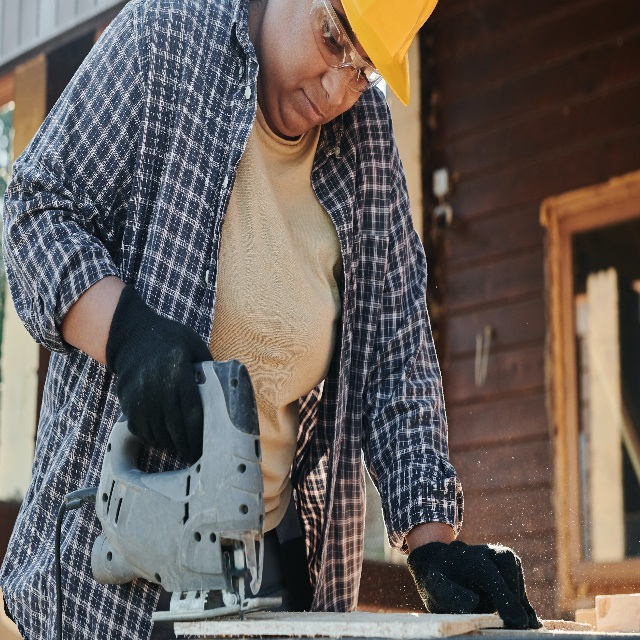Gafas: (310, 0, 383, 95)
Guantes: (107, 284, 214, 464), (407, 539, 543, 631)
